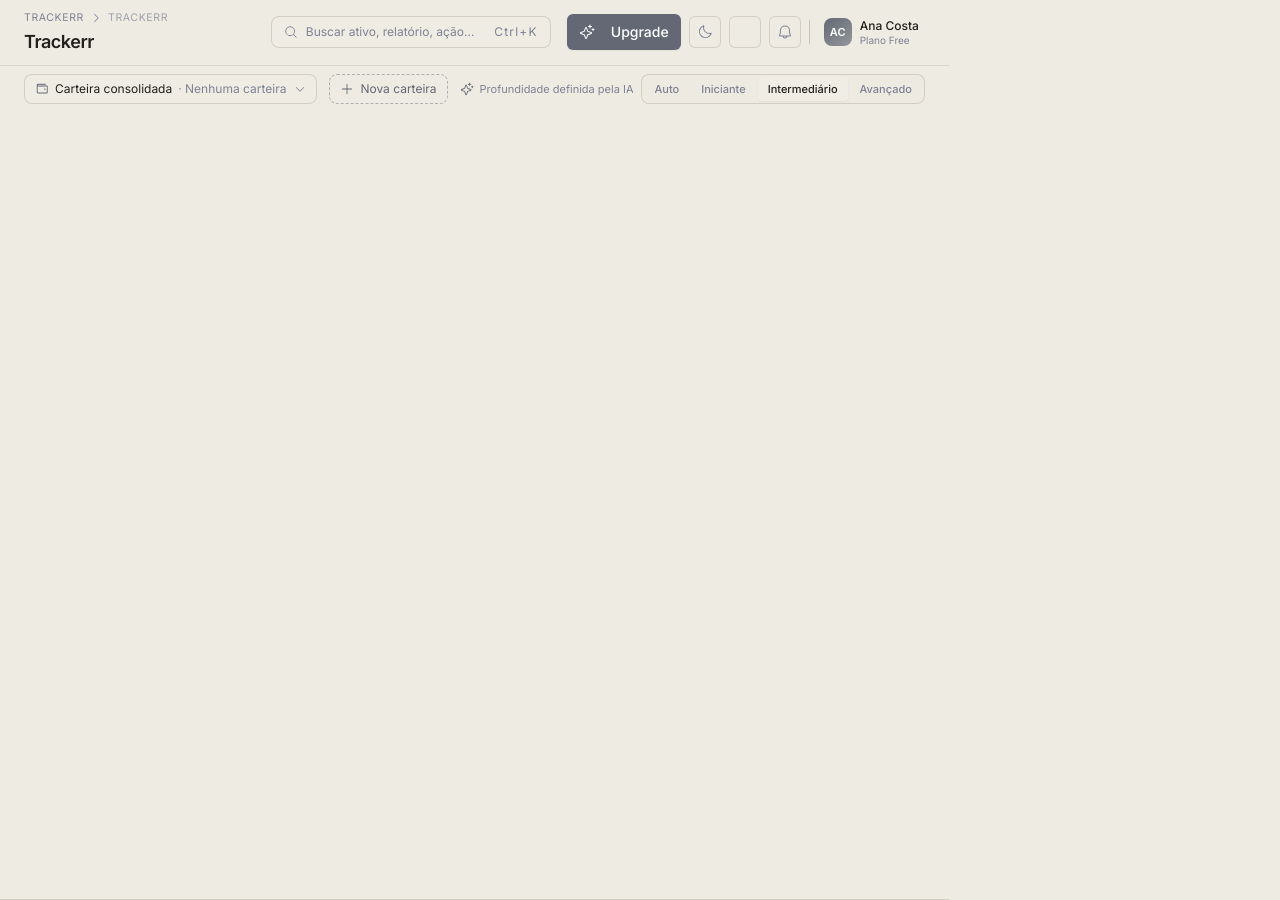
Test: AppTopbar › opens the command palette when the search field is clicked
Click the text "Buscar ativo, relatório, ação…".
click(396, 32)  # box left=306, top=24, right=486, bottom=40
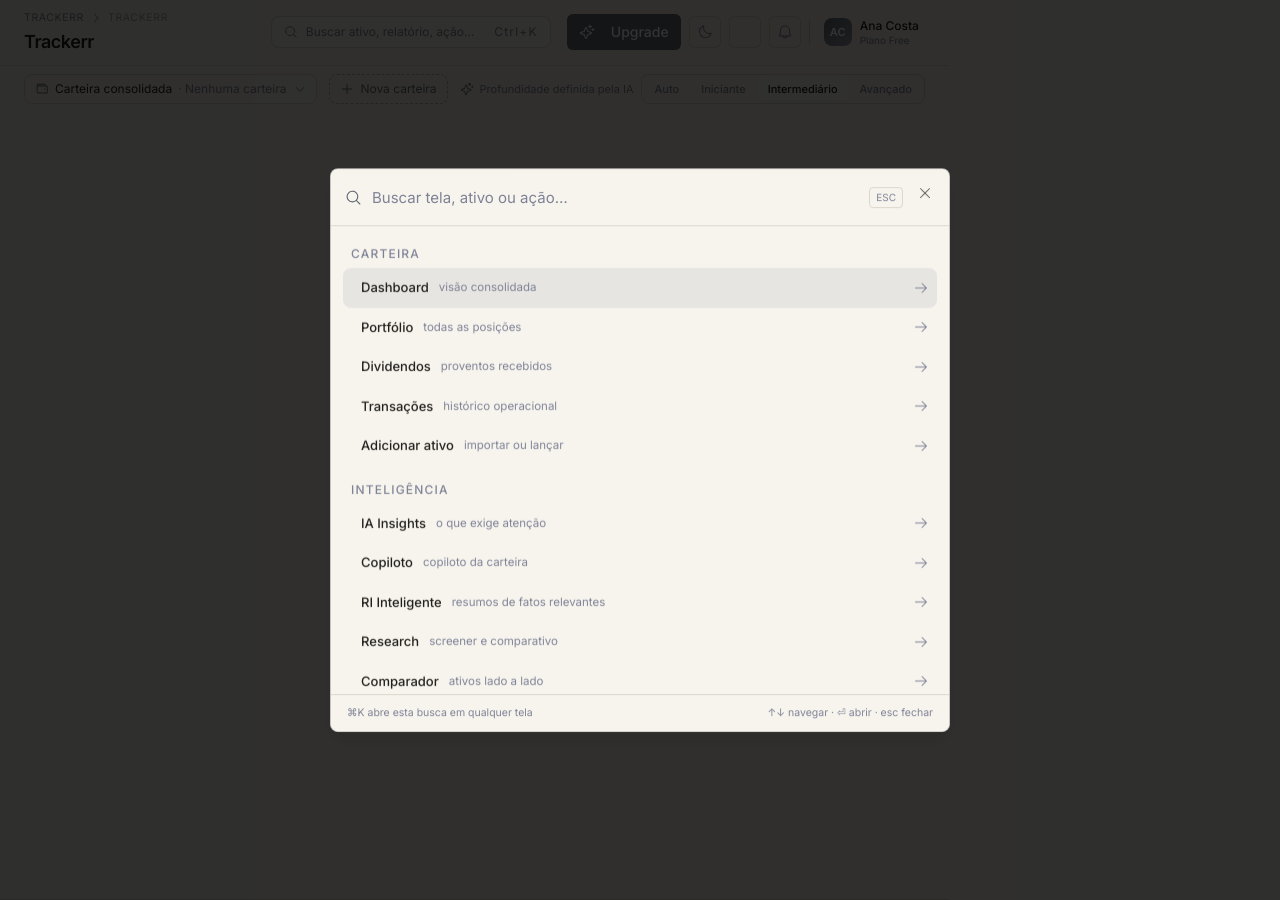
Check: the dropdown with placeholder "Buscar tela, ativo ou ação…" is shown, box left=372, top=181, right=859, bottom=213
